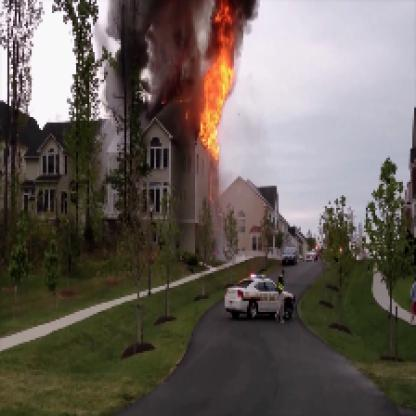Fire: (195, 2, 243, 169)
Smoke: (108, 2, 212, 134)
